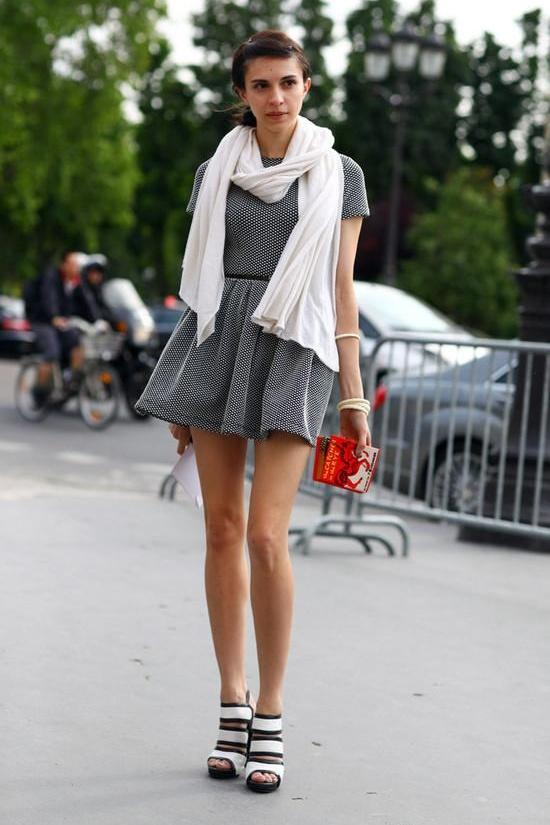dress: (132, 115, 370, 448)
